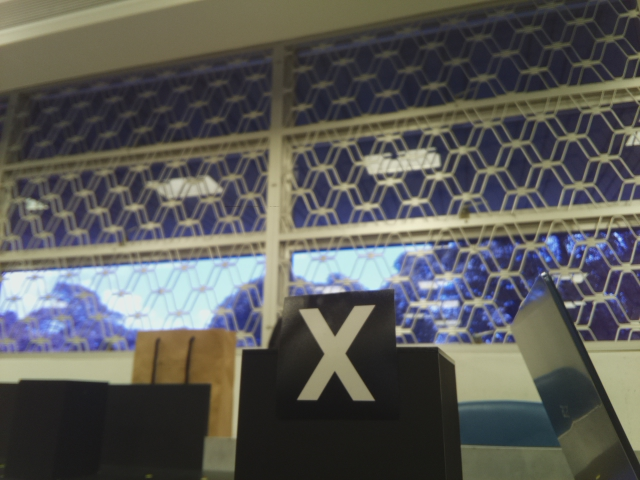x: (293, 303, 374, 407)
